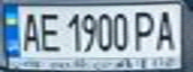0: (112, 9, 133, 52), (96, 9, 115, 53)
1: (63, 10, 81, 52)
9: (78, 9, 100, 53)
A: (151, 7, 181, 52), (15, 9, 42, 53)
E: (36, 9, 63, 53)
P: (130, 8, 160, 52)
